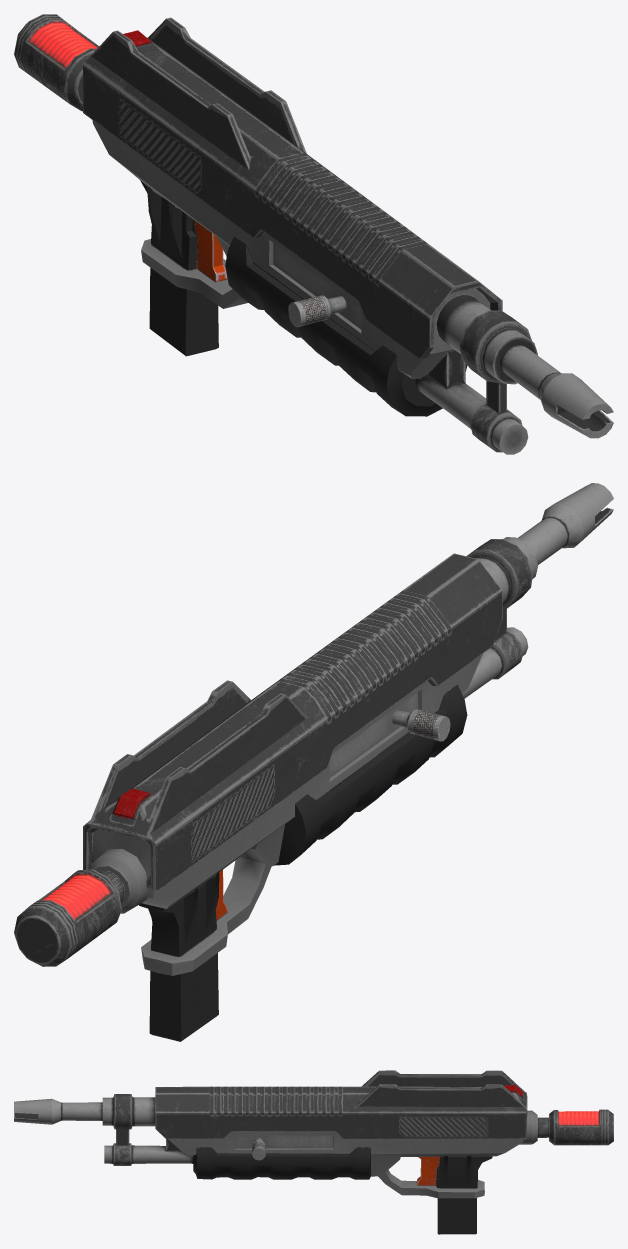
Rendered from SM_AssaultPistolBig.fbx.
The picture shows the model from 3 angles, top to bottom: view 1: azimuth 30°, elevation 25°; view 2: azimuth 150°, elevation 25°; view 3: azimuth 270°, elevation 25°; orthographic projection. The views are drawn at different scales.
Parts seen in each view (by area): view 1: SM_AssaultPistolBig; view 2: SM_AssaultPistolBig; view 3: SM_AssaultPistolBig.
Part boxes in pixels (bbox=[...]): SM_AssaultPistolBig: bbox=[14, 14, 613, 454]; SM_AssaultPistolBig: bbox=[14, 483, 613, 1041]; SM_AssaultPistolBig: bbox=[14, 1070, 613, 1234].
Size of the model in its own units: 23.27 by 42.36 by 151.
